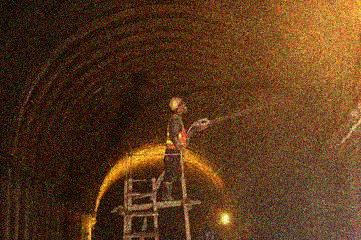helmet: (168, 96, 189, 115)
